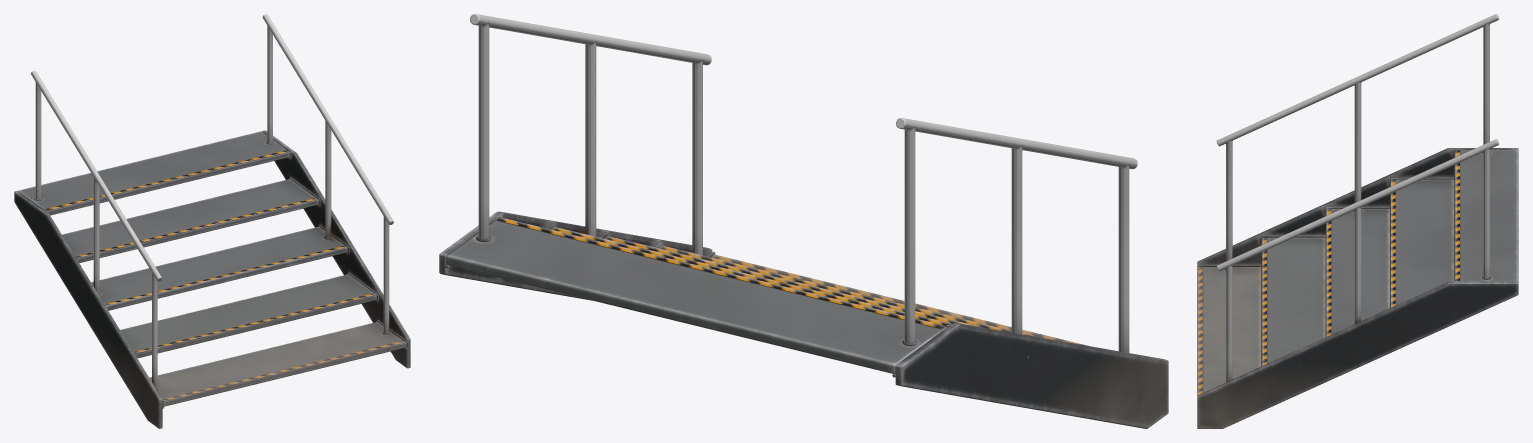
Rendered from SM_Stairs1m.glb.
3 views of the same model, side by side, from view 1: azimuth 30°, elevation 25°; view 2: azimuth 150°, elevation 25°; view 3: azimuth 270°, elevation 25° (orthographic). The views are drawn at different scales.
Parts seen in each view (by area): view 1: SM_Stairs1m; view 2: SM_Stairs1m; view 3: SM_Stairs1m.
Part boxes in pixels (<box>): SM_Stairs1m: <box>14,14,410,428</box>; SM_Stairs1m: <box>439,14,1168,428</box>; SM_Stairs1m: <box>1197,14,1518,428</box>.
Size of the model in its own units: 2 by 1.95 by 2.
Materials: 5 (5 with a texture image).
